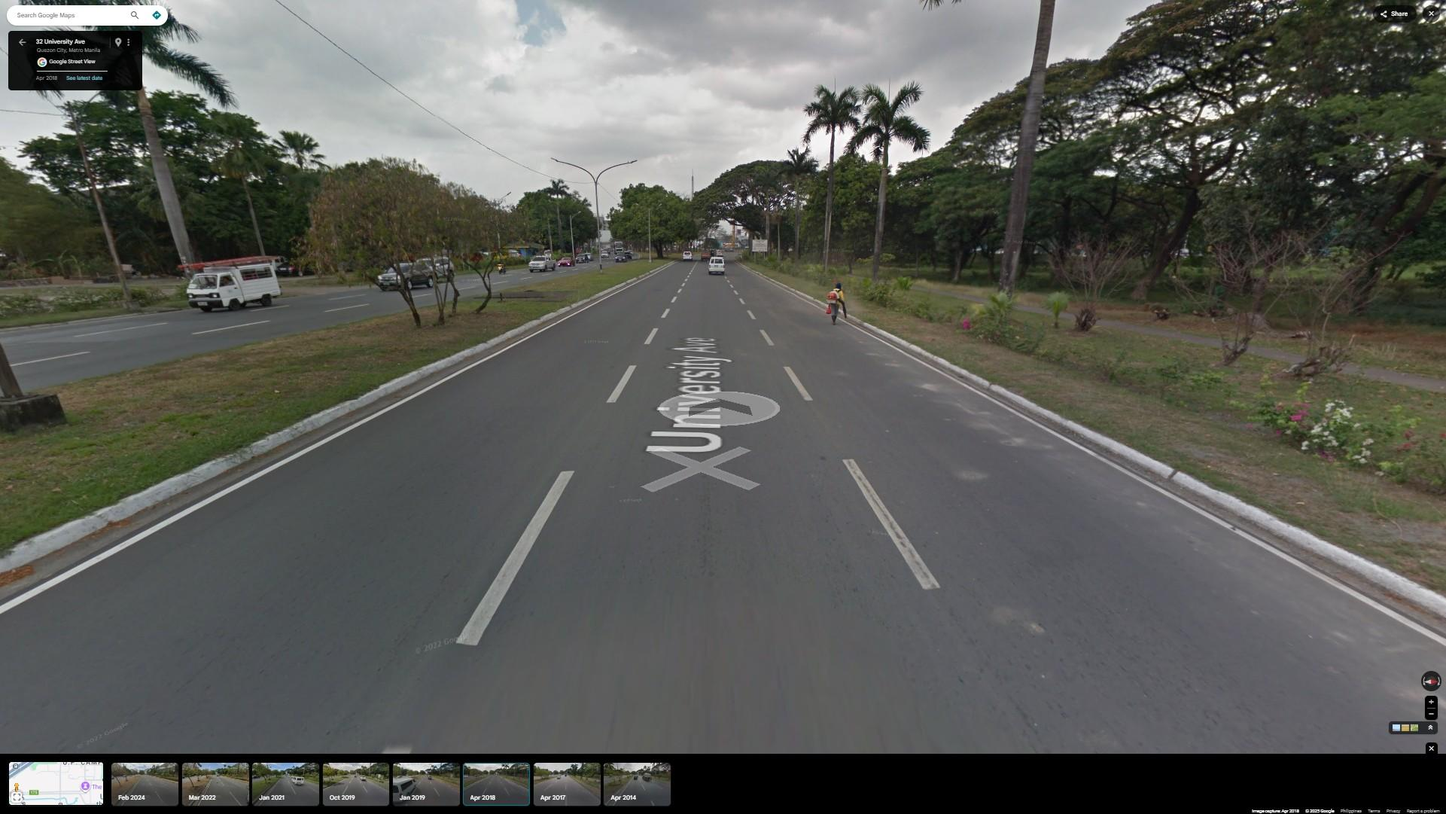pedestrian: (825, 281, 846, 326)
